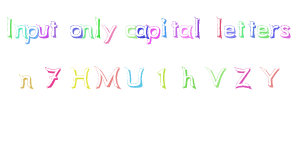1: (155, 65, 171, 90)
7: (42, 61, 64, 92)
H: (68, 61, 93, 92)
I: (6, 12, 18, 43)
M: (92, 63, 122, 92)
U: (122, 65, 150, 89)
V: (202, 65, 230, 90)
Y: (257, 61, 282, 90)
Z: (231, 62, 256, 92)
a: (179, 21, 194, 45), (134, 21, 148, 41)
c: (123, 21, 138, 41)
e: (257, 21, 269, 43), (224, 23, 237, 41)
h: (179, 63, 200, 92)
i: (160, 15, 169, 38)
l: (213, 14, 224, 41), (193, 14, 204, 40), (94, 14, 103, 40)
n: (7, 66, 42, 95), (82, 21, 94, 43), (14, 21, 26, 40)
o: (70, 20, 82, 42)
p: (25, 21, 38, 49), (147, 23, 160, 50)
r: (269, 20, 280, 42)
s: (280, 24, 293, 41)
t: (169, 18, 180, 41), (49, 20, 61, 41), (247, 15, 256, 42), (238, 17, 247, 41)
u: (38, 21, 50, 42)
y: (102, 21, 118, 46)
